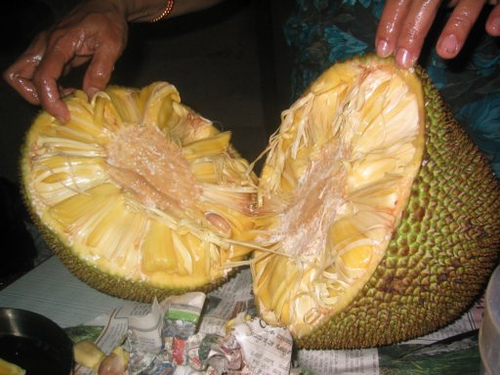jackfruit: (16, 52, 499, 351)
